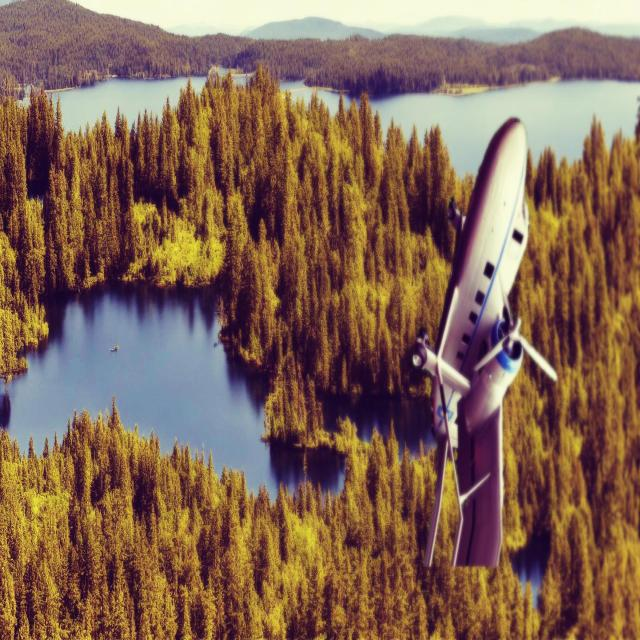airplane: (410, 115, 558, 569)
